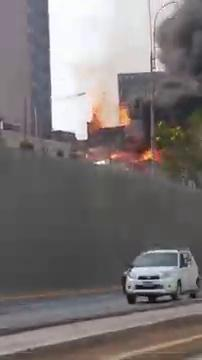fire: (89, 97, 103, 133), (137, 147, 162, 162)
smoke: (86, 15, 152, 67)
